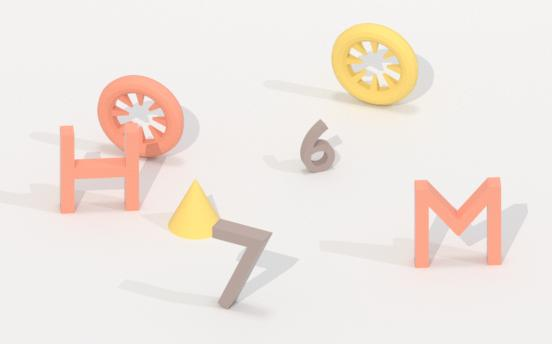6: (297, 120, 336, 174)
7: (209, 224, 272, 315)
H-hoa: (58, 123, 144, 218)
M-hoa: (412, 173, 508, 273)
non: (164, 179, 228, 244)
tron: (329, 21, 420, 114), (100, 73, 185, 163)
